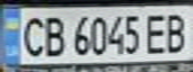0: (87, 12, 109, 56)
4: (106, 11, 127, 56)
5: (121, 11, 145, 55)
6: (69, 12, 90, 56)
B: (160, 9, 193, 54), (39, 12, 69, 57)
C: (15, 12, 48, 59)
E: (142, 10, 172, 55)
